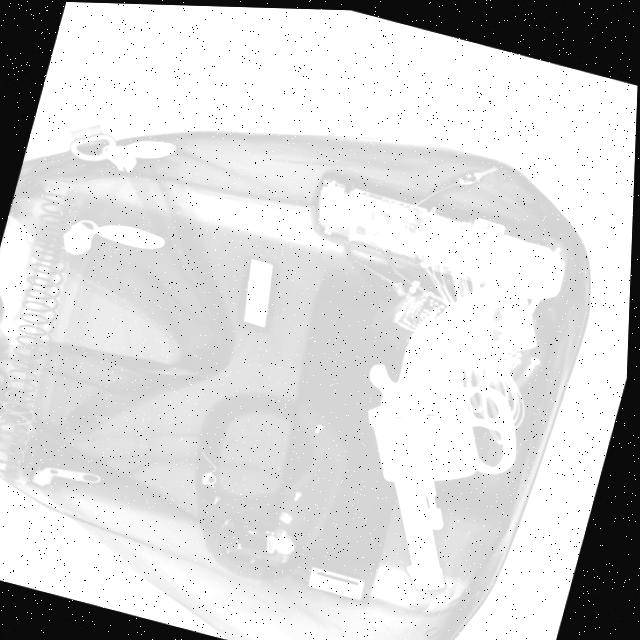pistol: (318, 240, 568, 602)
